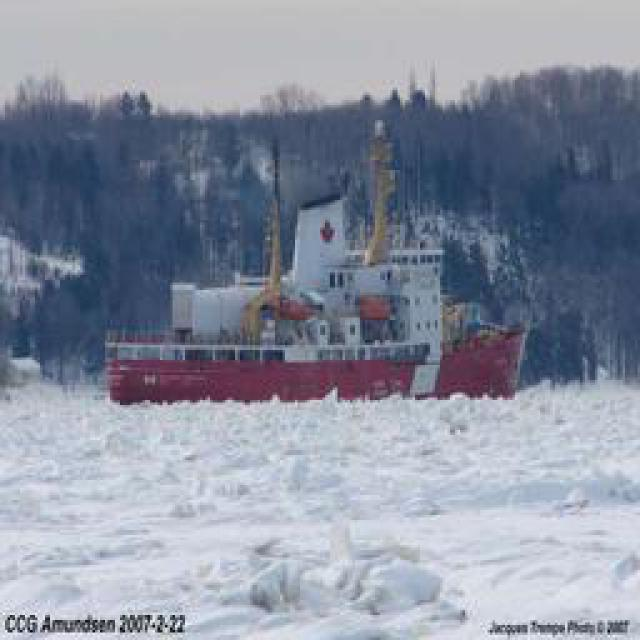Ship: (114, 314, 524, 409)
